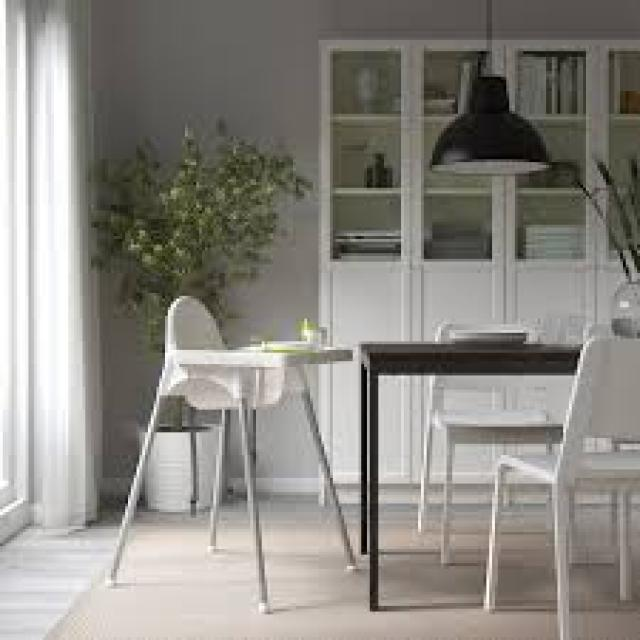chair: (90, 286, 368, 640), (458, 321, 640, 640), (392, 313, 584, 568)
